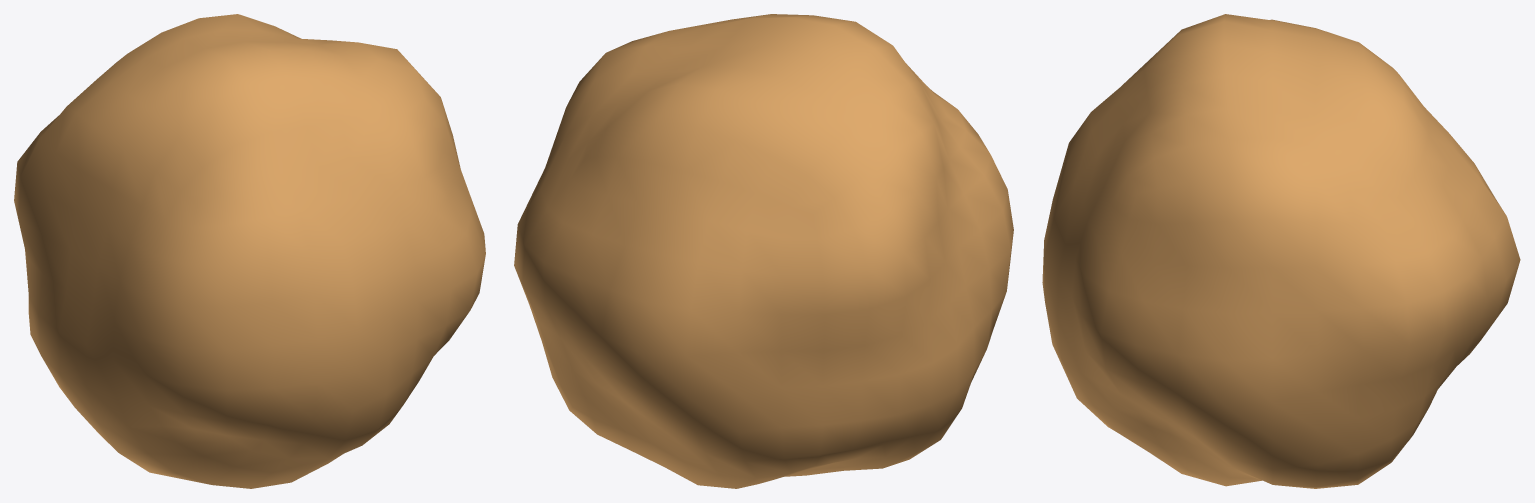
File: rock.fbx
3 views of the same model, side by side, from view 1: azimuth 30°, elevation 25°; view 2: azimuth 150°, elevation 25°; view 3: azimuth 270°, elevation 25° (orthographic). The views are drawn at different scales.
Visible parts, largest first — view 1: rock; view 2: rock; view 3: rock.
Boxes of the visible parts, <box> form: rock: <box>14,14,485,488</box>; rock: <box>514,14,1013,488</box>; rock: <box>1042,14,1520,488</box>.
Size of the model in its own units: 1.69 by 1.79 by 1.78.
